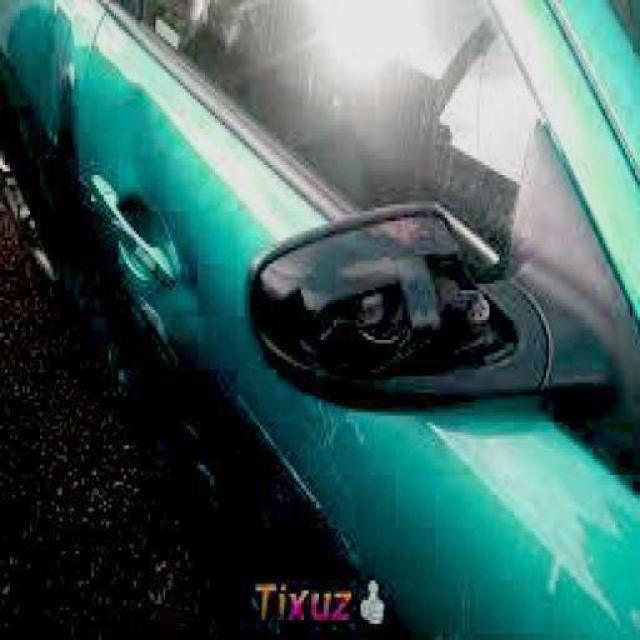car damage: (84, 84, 168, 192), (24, 0, 82, 154)
